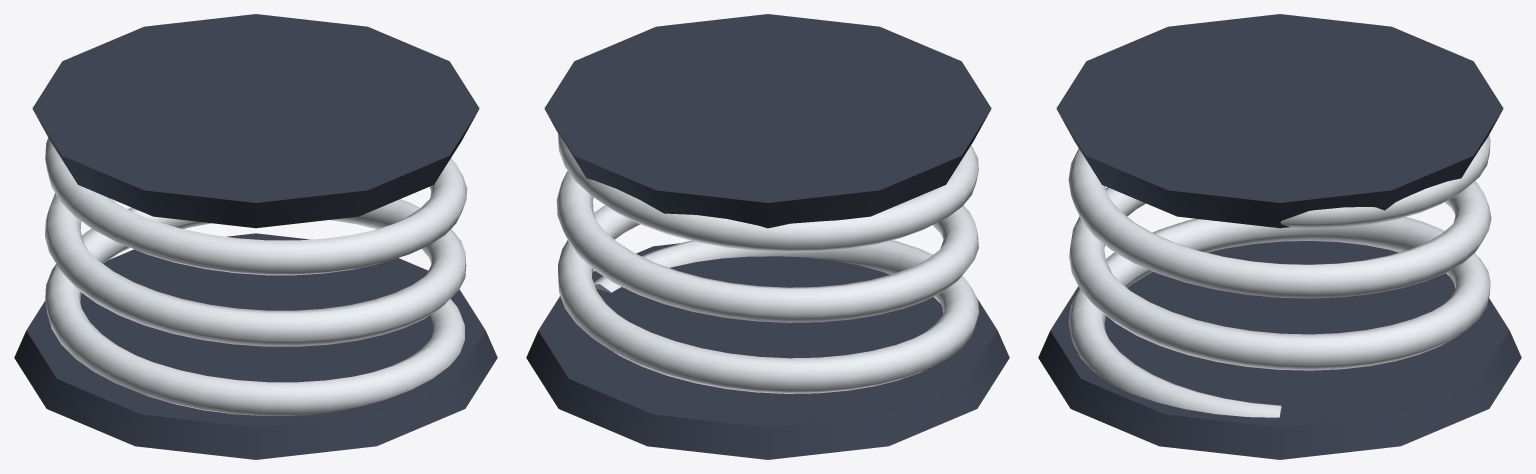
The model's file is spring.glb.
3 views of the same model, side by side, from view 1: azimuth 30°, elevation 25°; view 2: azimuth 150°, elevation 25°; view 3: azimuth 270°, elevation 25° (orthographic).
Parts seen in each view (by area): view 1: Object003, Object001, Object002; view 2: Object003, Object001, Object002; view 3: Object003, Object001, Object002.
Boxes of the visible parts, x1,y1,x2,y2 form: Object003: [32, 14, 479, 228]; Object001: [45, 138, 467, 415]; Object002: [14, 233, 497, 459]; Object003: [544, 14, 991, 228]; Object001: [556, 133, 978, 393]; Object002: [526, 243, 1009, 459]; Object003: [1056, 14, 1503, 228]; Object001: [1068, 135, 1491, 417]; Object002: [1038, 241, 1521, 459].
Size of the model in its own units: 0.8 by 0.455 by 0.8.
